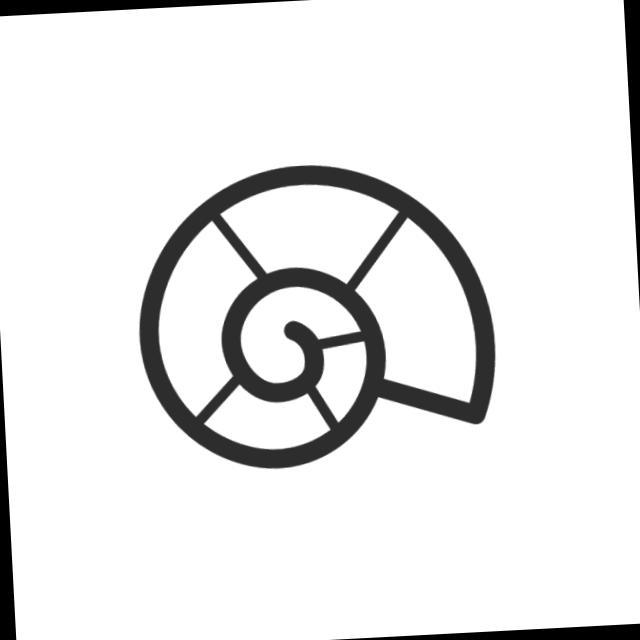fossil: (125, 149, 508, 484)
